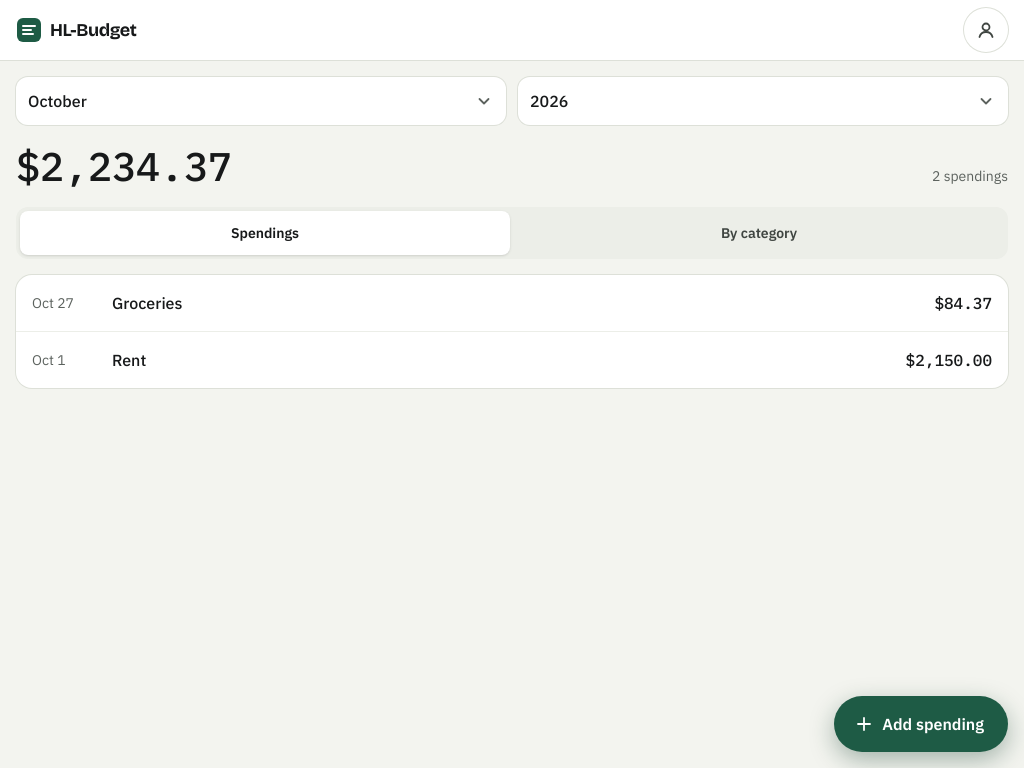
Test: PhoneApp › shows the month with its list, and By category on demand
This screenshot has width=1024, height=768.
Expected: the element that starts with "2 spendings" is shown, x1=0 y1=61 x2=1023 y2=484
Expected: the button "Oct 27 Groceries $84.37" is shown, x1=16 y1=275 x2=1008 y2=331
Step 1. Click the button "By category" → (759, 233), box x1=514 y1=211 x2=1004 y2=255
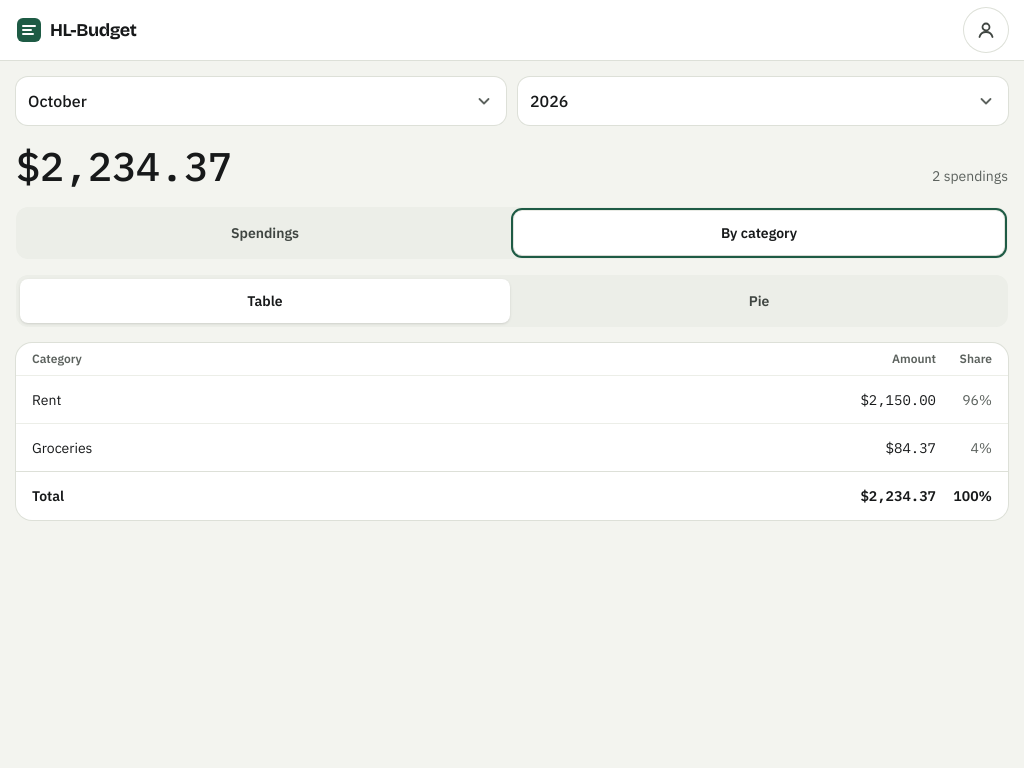
Now the table named "Spending by category" is shown, box x1=16 y1=343 x2=1008 y2=520
